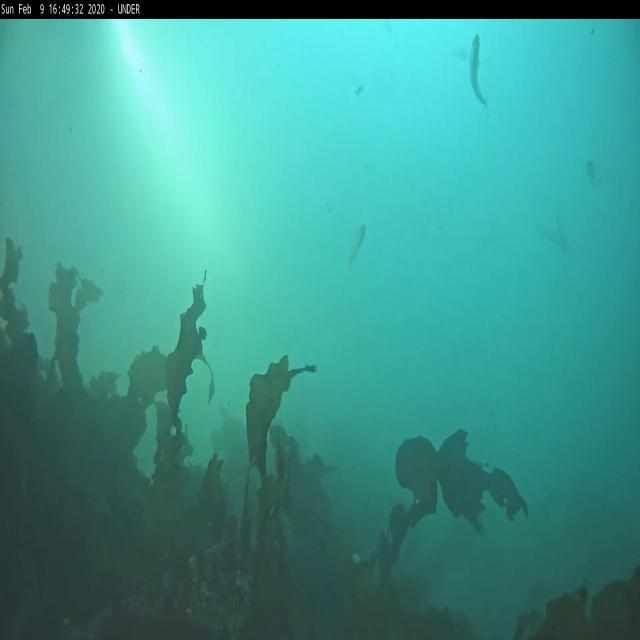fish: (469, 35, 489, 113), (347, 224, 367, 276)
